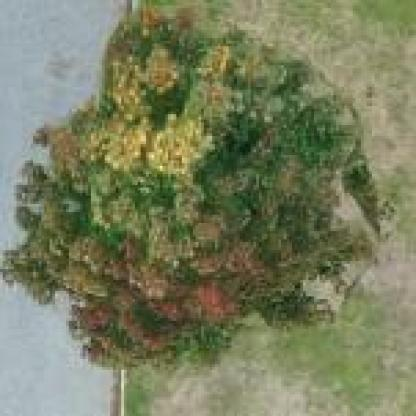Deciduous Tree: (7, 15, 390, 360)
